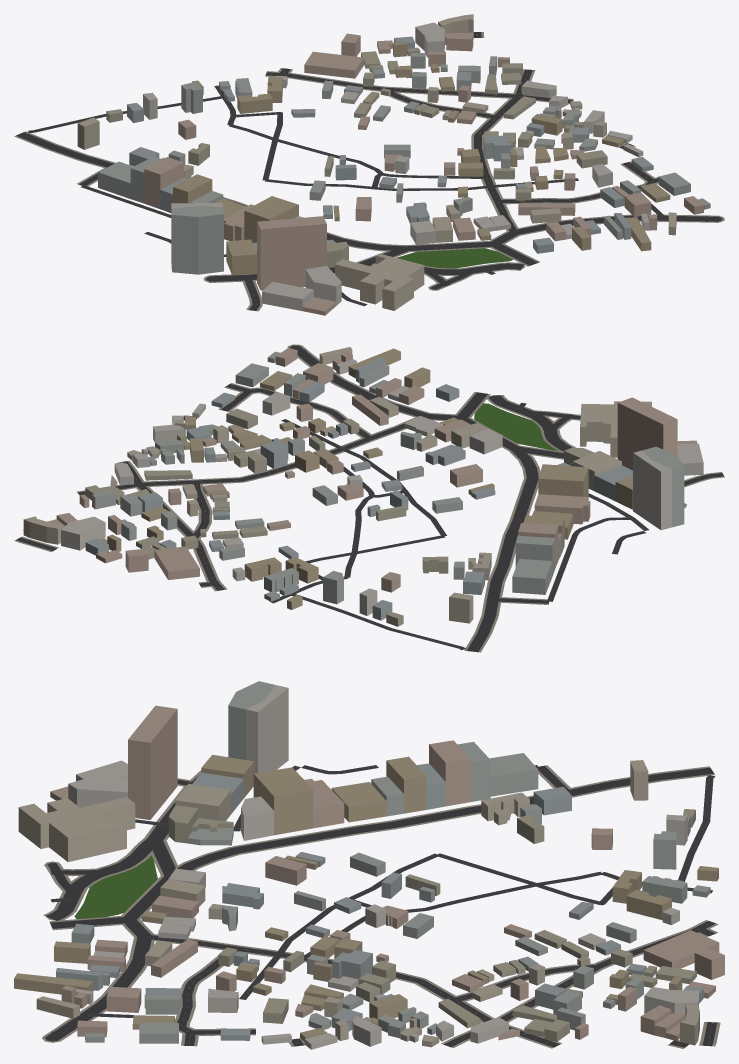
The picture shows the model from 3 angles, top to bottom: view 1: azimuth 30°, elevation 25°; view 2: azimuth 150°, elevation 25°; view 3: azimuth 270°, elevation 25°; orthographic projection. The views are drawn at different scales.
Visible parts, largest first — view 1: tile_-2_-1; view 2: tile_-2_-1; view 3: tile_-2_-1.
Part boxes in pixels (<box>): tile_-2_-1: <box>14,14,724,315</box>; tile_-2_-1: <box>14,344,724,652</box>; tile_-2_-1: <box>14,681,724,1049</box>.
Size of the model in its own units: 424 by 51.6 by 430.
